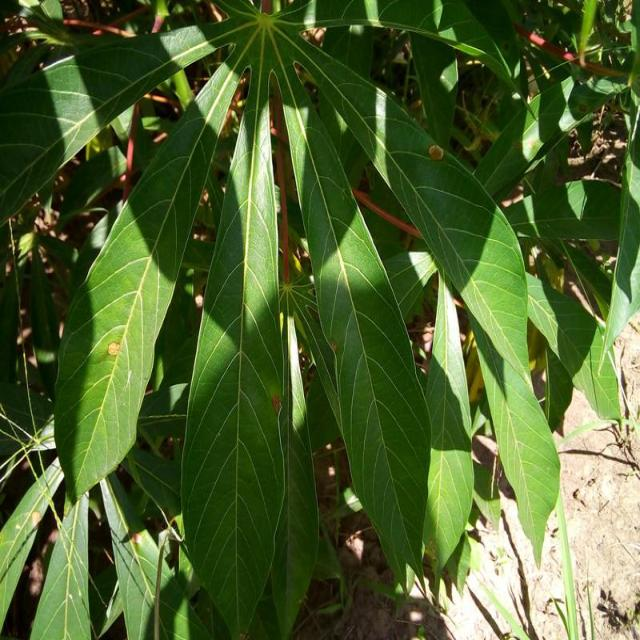cassava leaf: (2, 1, 634, 637), (51, 52, 242, 505), (274, 57, 432, 598), (179, 59, 291, 636)
